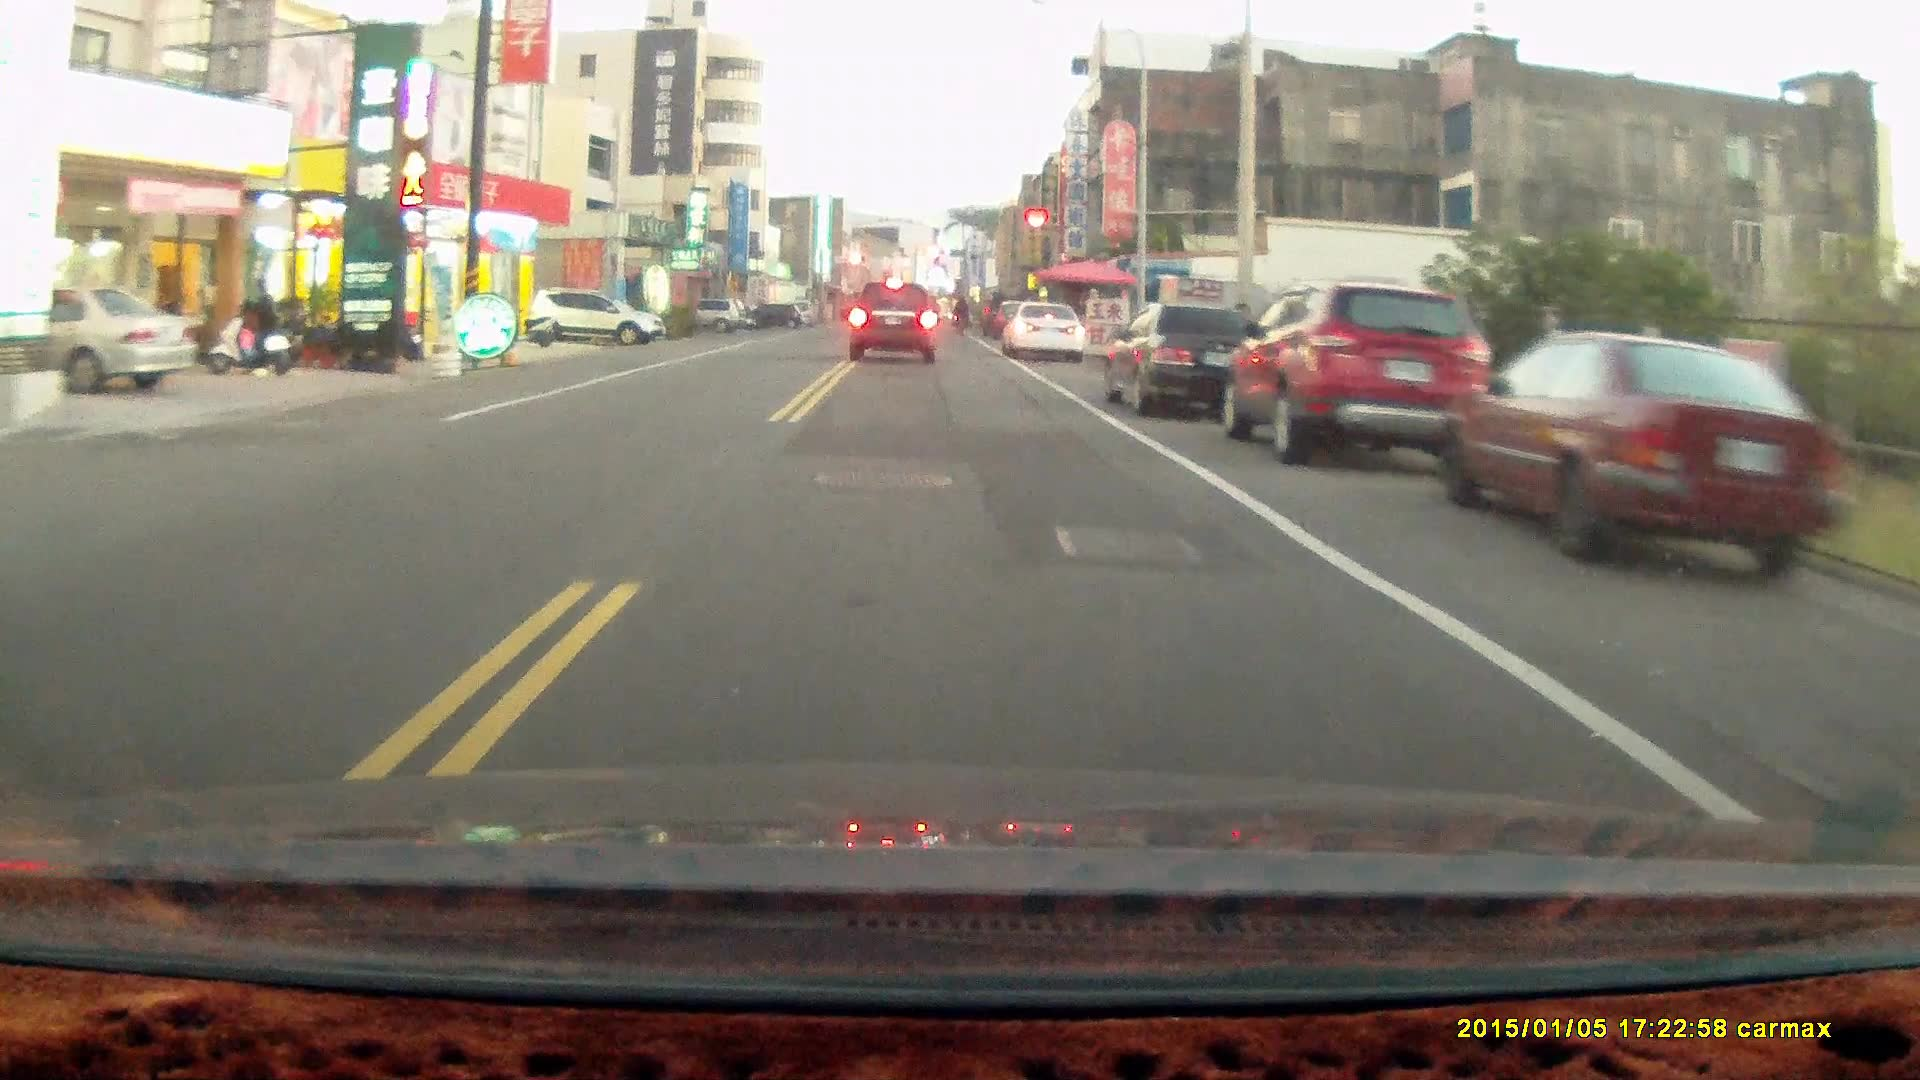vehicle: (1437, 331, 1836, 587), (1226, 277, 1507, 462), (1, 287, 200, 396), (1104, 302, 1269, 419), (529, 284, 669, 349), (848, 281, 938, 365), (1004, 301, 1087, 363)
